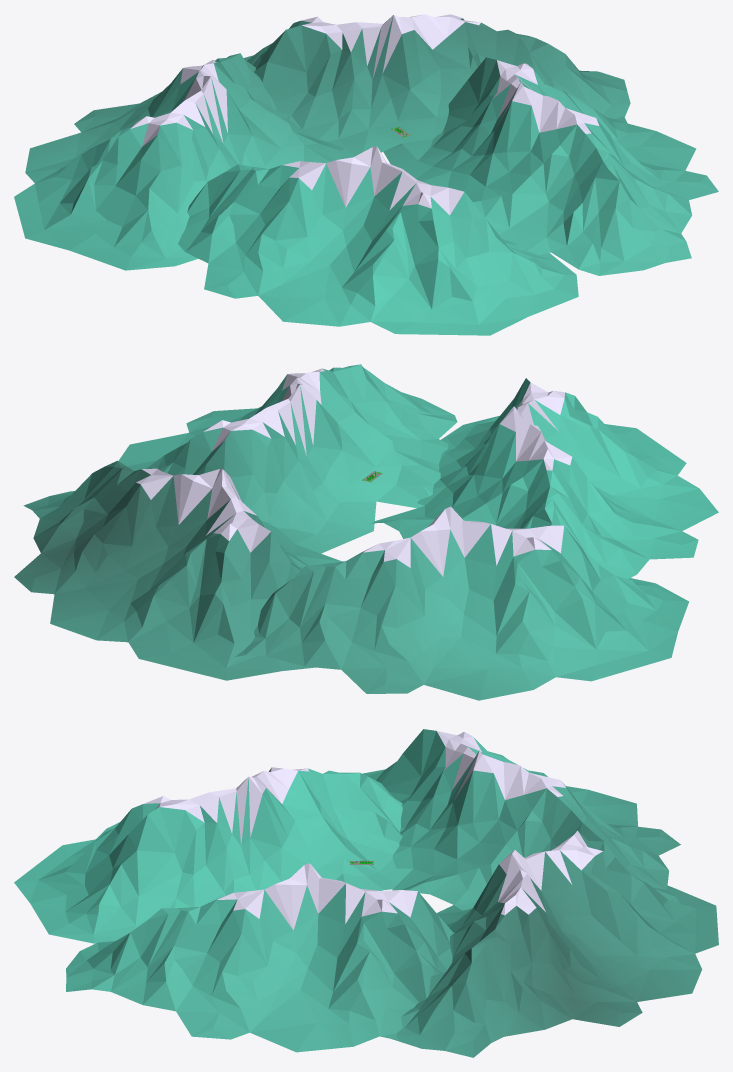
The model's file is driftmap6.obj.
3 renders of one model, top to bottom at view 1: azimuth 30°, elevation 25°; view 2: azimuth 150°, elevation 25°; view 3: azimuth 270°, elevation 25°, orthographic. The views are drawn at different scales.
Visible parts, largest first — view 1: Plane_Plane.001; view 2: Plane_Plane.001; view 3: Plane_Plane.001.
Boxes of the visible parts, <box> form: Plane_Plane.001: <box>14,14,718,335</box>; Plane_Plane.001: <box>14,364,718,700</box>; Plane_Plane.001: <box>14,729,718,1057</box>.
Size of the model in its own units: 14192 by 2339 by 13958.
19 materials, 19 textured.
